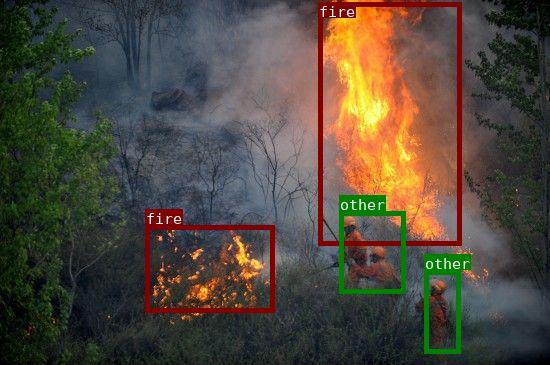fire: (317, 1, 460, 244), (144, 224, 273, 312)
other: (338, 210, 404, 293), (423, 269, 459, 352)
